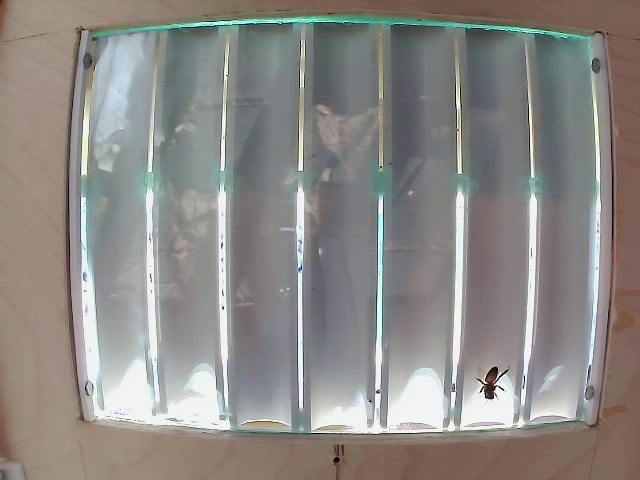bee: (473, 362, 507, 402)
